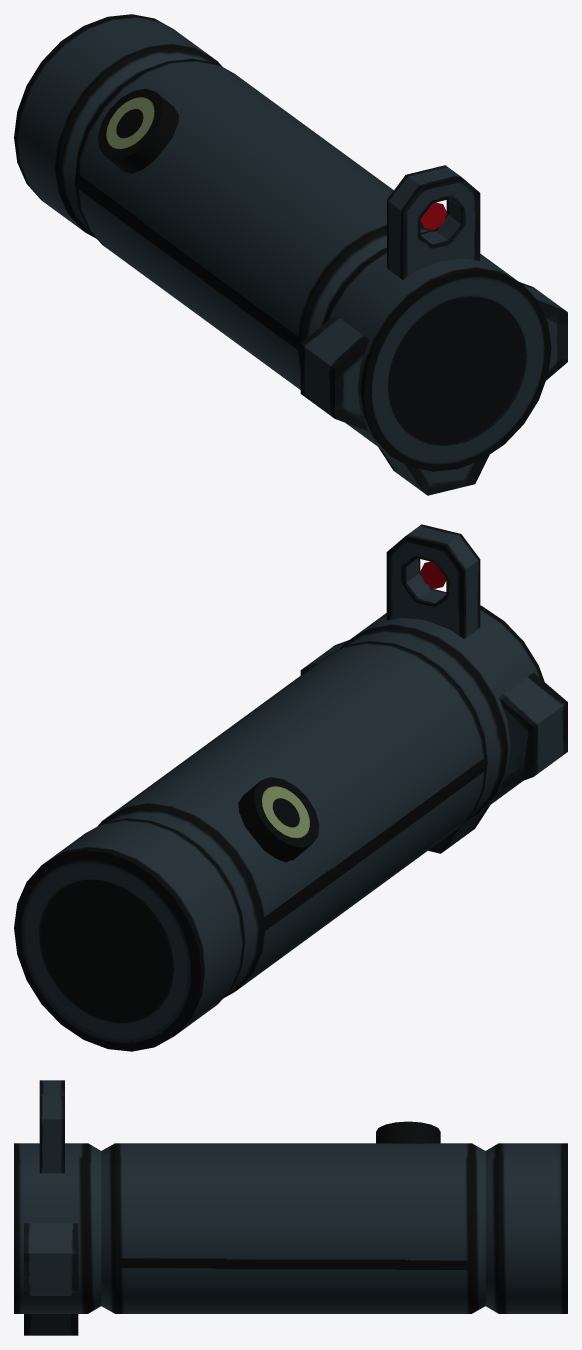
The model's file is bazuka_model_180 without bone.fbx.
The picture shows the model from 3 angles, top to bottom: view 1: azimuth 30°, elevation 25°; view 2: azimuth 150°, elevation 25°; view 3: azimuth 270°, elevation 25°; orthographic projection. The views are drawn at different scales.
Parts seen in each view (by area): view 1: bazuka; view 2: bazuka; view 3: bazuka.
Boxes of the visible parts, x1=… form: bazuka: x1=14, y1=14, x2=567, y2=495; bazuka: x1=14, y1=524, x2=567, y2=1051; bazuka: x1=14, y1=1080, x2=567, y2=1335.
Bounding box in the file's own units: 33.78 × 87.81 × 41.68.
